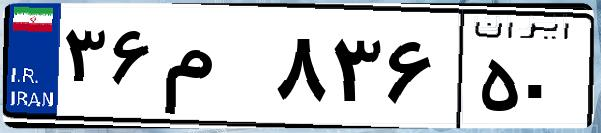0: (525, 38, 570, 115)
3: (330, 28, 385, 110), (57, 26, 110, 100)
5: (475, 38, 525, 113)
6: (385, 28, 445, 110), (110, 28, 158, 98)
8: (270, 28, 330, 110)
م: (158, 20, 270, 120)
